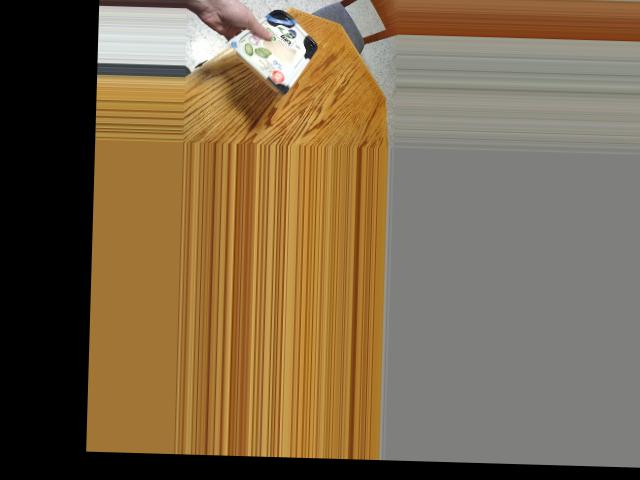cheese: (234, 19, 316, 82)
